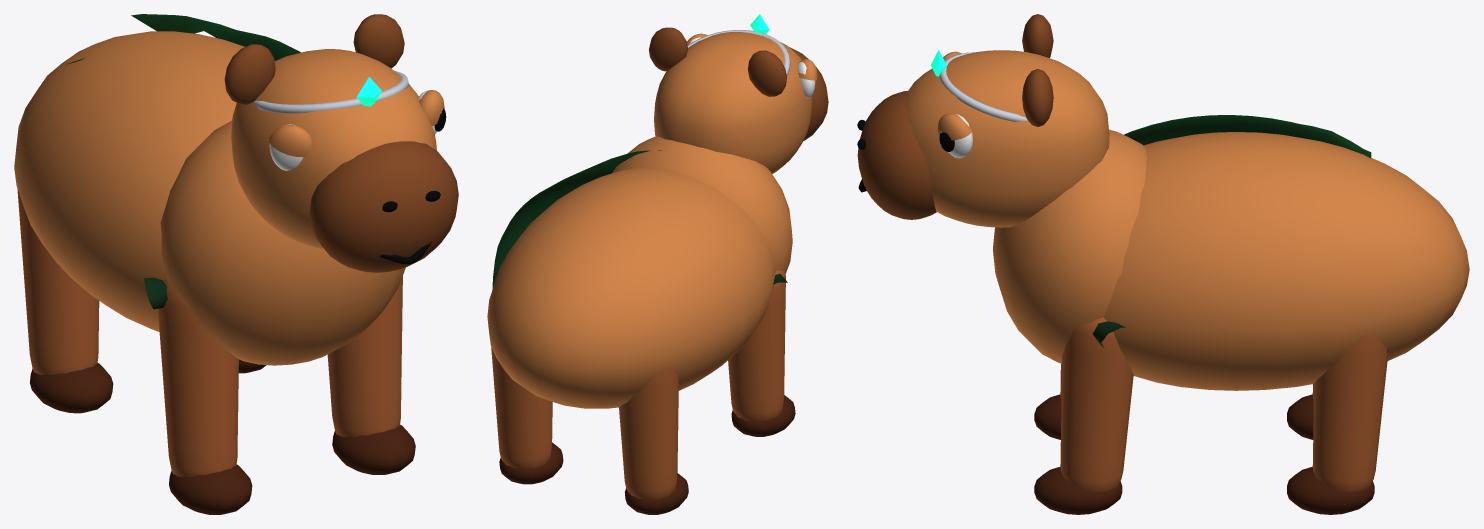
File: capybara.glb
3 renders of one model, left to right at view 1: azimuth 30°, elevation 25°; view 2: azimuth 150°, elevation 25°; view 3: azimuth 270°, elevation 25°, orthographic. The views are drawn at different scales.
Parts seen in each view (by area): view 1: body, body_chest, head, head_snout, leg_-1_1, leg_-1_-1, leg_1_1, leg_-1_-1_paw, leg_1_1_paw, leg_-1_1_paw, cape, head_ear_-1 (+5 smaller); view 2: body, head, body_chest, leg_-1_-1, leg_-1_1, leg_1_-1, cape, head_ear_-1, head_ear_1, leg_1_-1_paw, leg_-1_-1_paw, leg_-1_1_paw (+2 smaller); view 3: body, head, body_chest, leg_1_1, leg_1_-1, head_snout, cape, leg_1_1_paw, leg_1_-1_paw, head_ear_1, head_ear_-1, head_circlet (+2 smaller).
Boxes of the visible parts, box(x1,y1,x2,y2) form: body: box(14, 31, 244, 331); body_chest: box(160, 121, 405, 365); head: box(231, 49, 436, 249); head_snout: box(309, 141, 458, 272); leg_-1_1: box(158, 278, 238, 476); leg_-1_-1: box(17, 189, 99, 375); leg_1_1: box(327, 276, 402, 437); leg_-1_-1_paw: box(30, 363, 113, 413); leg_1_1_paw: box(332, 424, 415, 474); leg_-1_1_paw: box(169, 464, 252, 514); cape: box(66, 14, 300, 64); head_ear_-1: box(224, 44, 275, 104); body: box(487, 167, 775, 408); head: box(654, 32, 812, 173); body_chest: box(612, 136, 792, 273); leg_-1_-1: box(619, 364, 678, 499); leg_-1_1: box(728, 270, 785, 421); leg_1_-1: box(491, 347, 552, 469); cape: box(492, 150, 661, 288); head_ear_-1: box(748, 50, 786, 96); head_ear_1: box(649, 27, 687, 71); leg_1_-1_paw: box(499, 442, 563, 484); leg_-1_-1_paw: box(624, 473, 688, 514); leg_-1_1_paw: box(731, 395, 795, 436); body: box(1103, 132, 1469, 390); head: box(906, 50, 1109, 227); body_chest: box(993, 129, 1146, 363); leg_1_1: box(1060, 317, 1133, 492); leg_1_-1: box(1312, 335, 1387, 492); head_snout: box(857, 91, 936, 219); cape: box(1124, 115, 1371, 158); leg_1_1_paw: box(1034, 467, 1122, 514); leg_1_-1_paw: box(1287, 467, 1374, 514); head_ear_1: box(1022, 69, 1053, 126); head_ear_-1: box(1022, 14, 1053, 57); head_circlet: box(939, 52, 1027, 121).
Bounding box in the file's own units: 0.6878 × 1.05 × 1.36.
